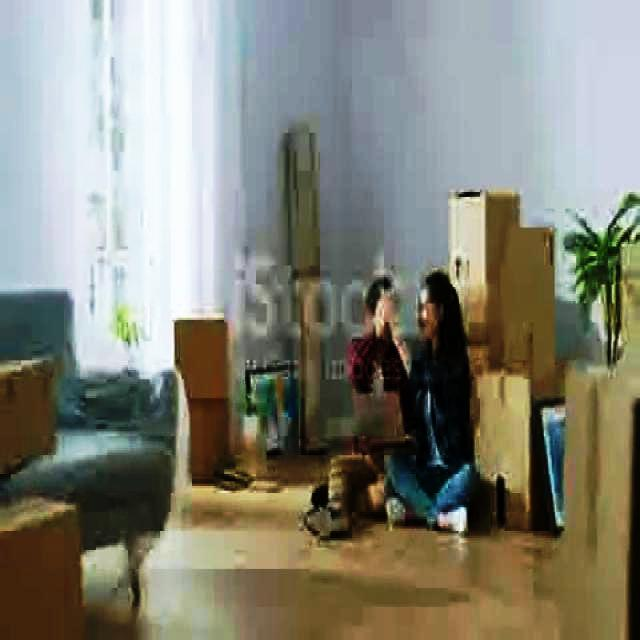Box: (451, 192, 528, 363), (178, 313, 230, 396), (185, 401, 235, 476)
